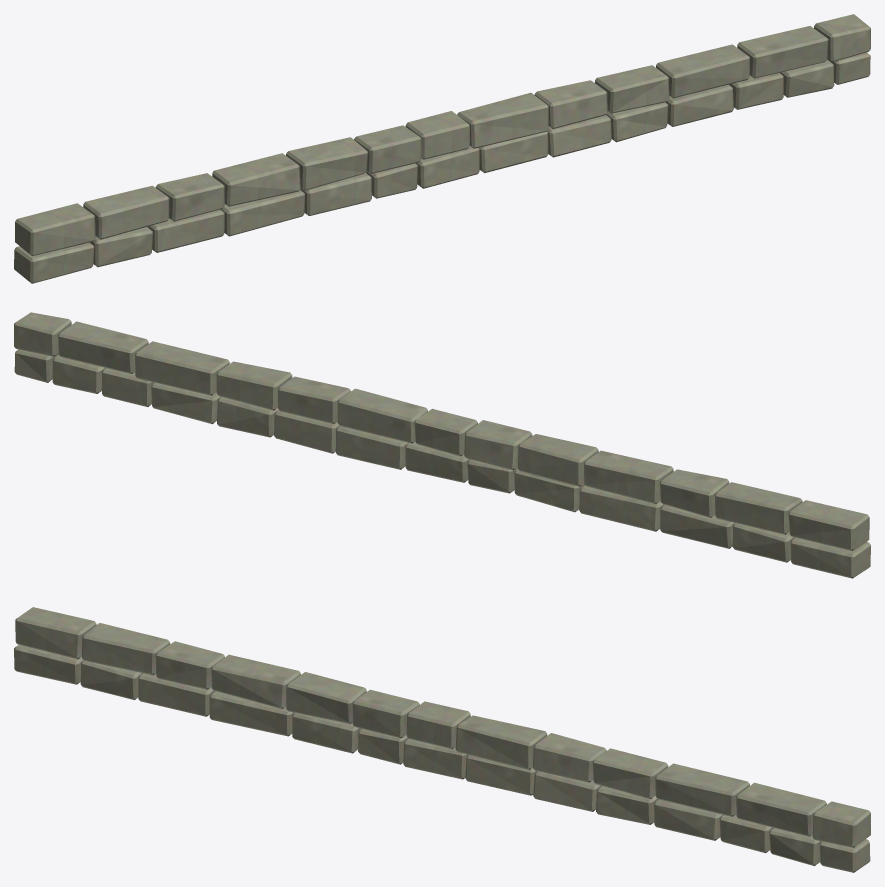
The model's file is SM_HH_Q3_Stone_Far.fbx.
The picture shows the model from 3 angles, top to bottom: view 1: azimuth 30°, elevation 25°; view 2: azimuth 150°, elevation 25°; view 3: azimuth 330°, elevation 25°; orthographic projection.
Parts seen in each view (by area): view 1: HH_Q3_Stone_Far; view 2: HH_Q3_Stone_Far; view 3: HH_Q3_Stone_Far.
Boxes of the visible parts, left/top/right/bottom form: HH_Q3_Stone_Far: left=14, top=14, right=870, bottom=283; HH_Q3_Stone_Far: left=14, top=312, right=870, bottom=578; HH_Q3_Stone_Far: left=14, top=607, right=870, bottom=872.
Bounding box in the file's own units: 0.3582 × 8.68 × 0.5454.
